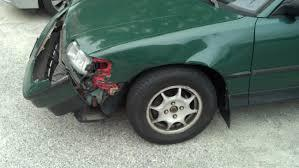fender-dent: (156, 21, 241, 82)
front-bumper-dent: (27, 38, 97, 106)
